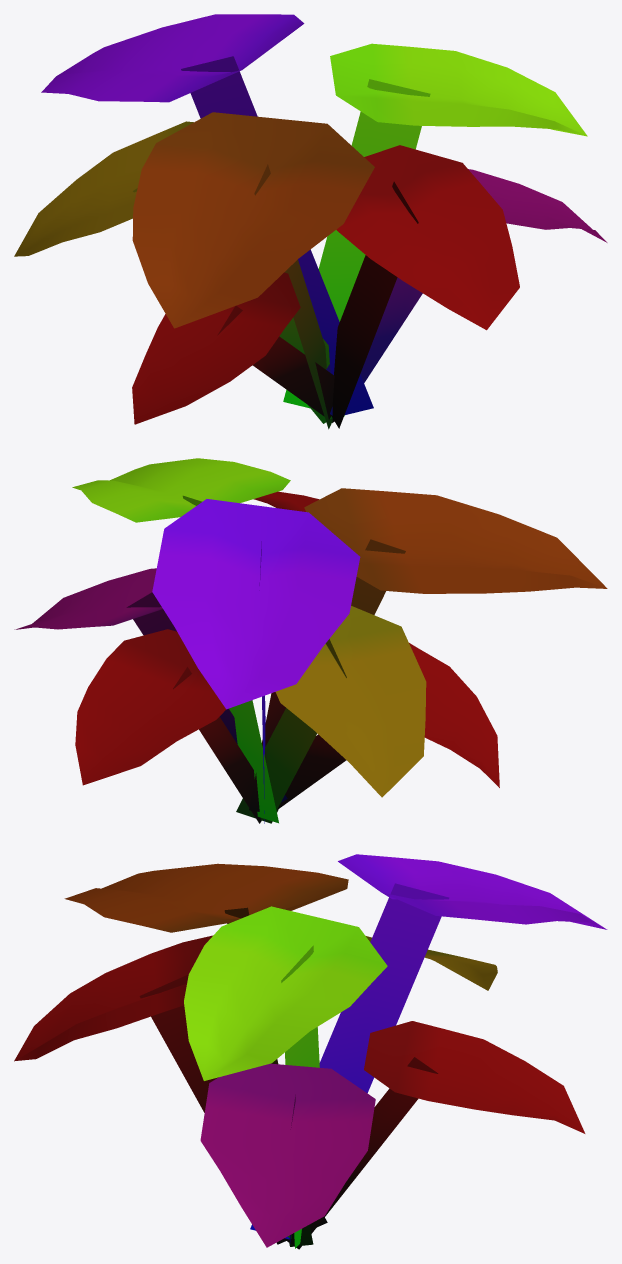
The model's file is Elephant_ear_var2.fbx.
3 renders of one model, top to bottom at view 1: azimuth 30°, elevation 25°; view 2: azimuth 150°, elevation 25°; view 3: azimuth 270°, elevation 25°, orthographic. The views are drawn at different scales.
Parts seen in each view (by area): view 1: Elephant_Ear_var2_LOD0; view 2: Elephant_Ear_var2_LOD0; view 3: Elephant_Ear_var2_LOD0.
Boxes of the visible parts, box(x1,y1,x2,y2) form: Elephant_Ear_var2_LOD0: box(14, 14, 607, 429); Elephant_Ear_var2_LOD0: box(14, 458, 607, 823); Elephant_Ear_var2_LOD0: box(14, 854, 607, 1249).
Size of what is drawn, in the model's own units: 12.72 by 8.58 by 12.66.
